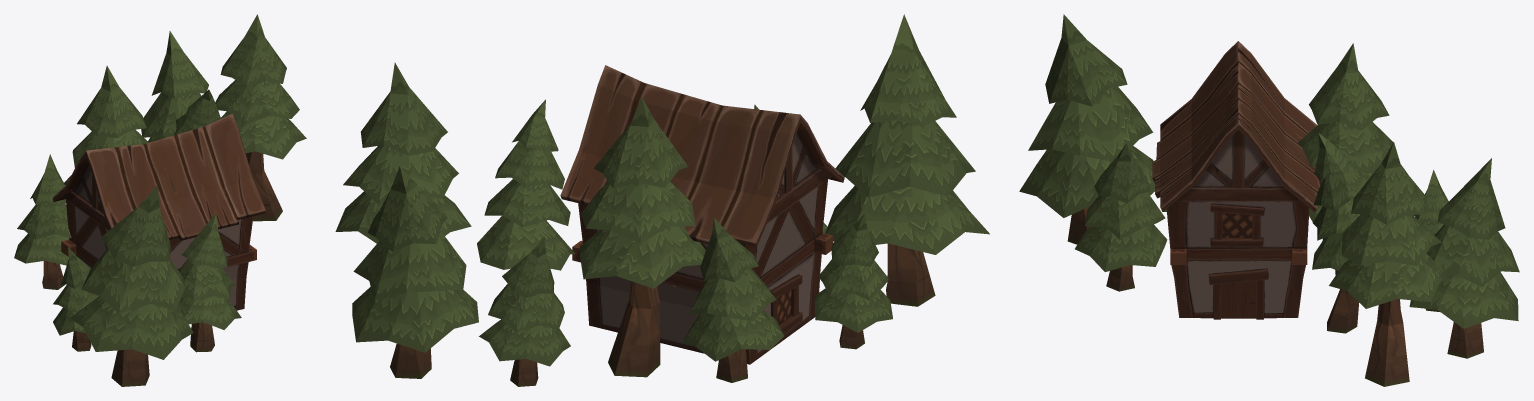
The model's file is house_and_trees_low_poly.glb.
3 renders of one model, left to right at view 1: azimuth 30°, elevation 25°; view 2: azimuth 150°, elevation 25°; view 3: azimuth 270°, elevation 25°, orthographic. The views are drawn at different scales.
Visible parts, largest first — view 1: Cube.000, Circle.015, Cylinder.008, Circle.000, Circle.004, Circle.002, Cube.013, Cylinder.001, Circle.001, Cylinder.004, Cube.004; view 2: Cube.000, Circle.015, Cylinder.001, Circle.002, Cylinder.008, Cylinder.004, Circle.004, Circle.003, Cube.004, Circle.001, Cube.013; view 3: Cube.000, Circle.015, Cylinder.008, Circle.002, Cube.013, Circle.000, Cylinder.001, Cube.004, Cylinder.004, Cube.005, Circle.003.
Boxes of the visible parts, x1,y1,x2,y2 form: Cube.000: (52,113,265,240); Circle.015: (69,185,193,386); Cylinder.008: (215,14,306,221); Circle.000: (177,213,241,352); Circle.004: (14,154,71,289); Circle.002: (141,31,208,142); Cube.013: (61,200,256,270); Cylinder.001: (64,66,148,185); Circle.001: (53,247,99,351); Cylinder.004: (174,89,220,135); Cube.004: (76,255,248,310); Cube.000: (560,65,844,246); Circle.015: (825,14,989,306); Cylinder.001: (579,97,705,377); Circle.002: (352,166,478,378); Cylinder.008: (335,62,471,243); Cylinder.004: (477,99,575,270); Circle.004: (682,218,784,382); Circle.003: (479,237,570,386); Cube.004: (586,252,821,364); Circle.001: (814,213,892,349); Cube.013: (572,179,833,292); Cube.000: (1152,41,1320,212); Circle.015: (1019,14,1154,244); Cylinder.008: (1329,142,1445,386); Circle.002: (1409,158,1519,358); Cube.013: (1166,201,1309,264); Circle.000: (1075,143,1167,291); Cylinder.001: (1298,43,1393,274); Cube.004: (1171,248,1305,319); Cylinder.004: (1312,132,1369,333); Cube.005: (1221,280,1256,318); Circle.003: (1413,170,1448,312).
Size of the model in its own units: 946 by 561 by 1027.
8 materials, 8 textured.
